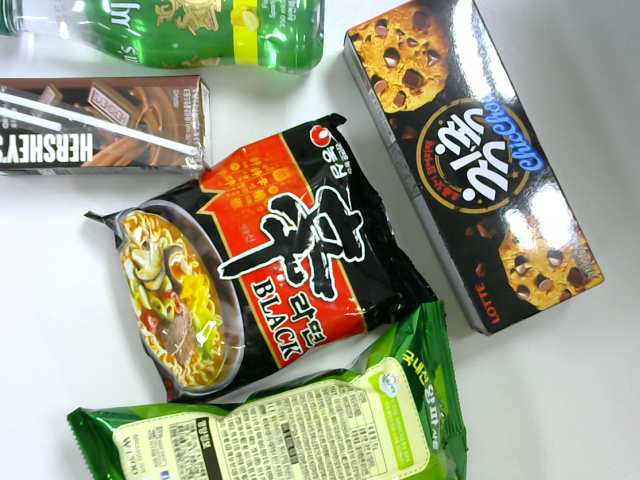Chicchok_Original_2400: (343, 4, 603, 336)
Grilled_Onions: (61, 302, 463, 480)
Hush_Choco_Drink: (1, 76, 211, 174)
Seagram_Lemon_Carbonated_Water: (5, 2, 323, 72)
Sinramen_Black: (83, 114, 437, 406)
